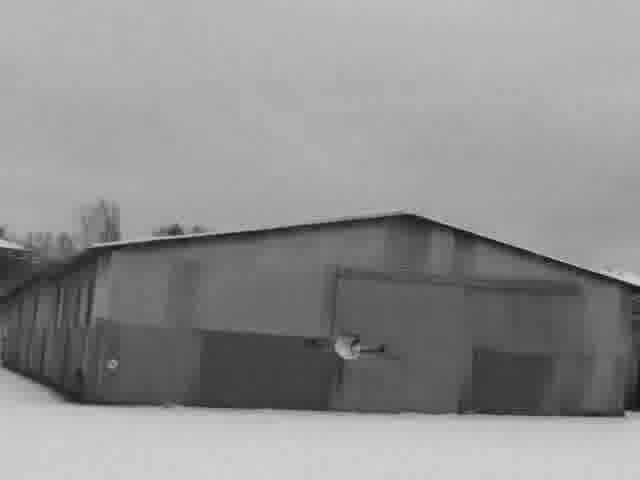drone: (302, 329, 388, 386)
